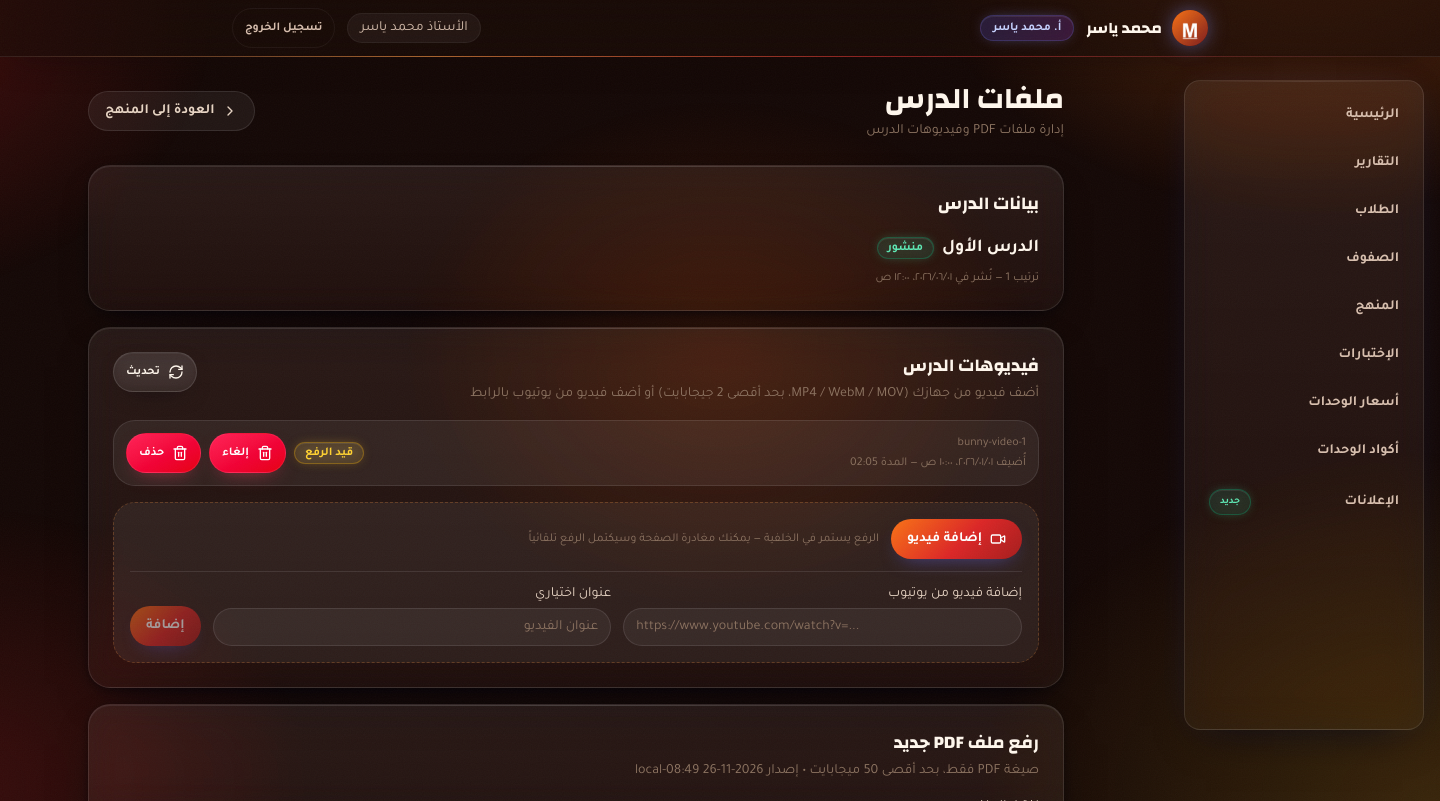
it: LessonAssetsPage — video section › cancels a pending upload from its row through the session Edge Function
This screenshot has width=1440, height=801.
Click the button "إلغاء": (248, 453) [209, 433, 286, 473]
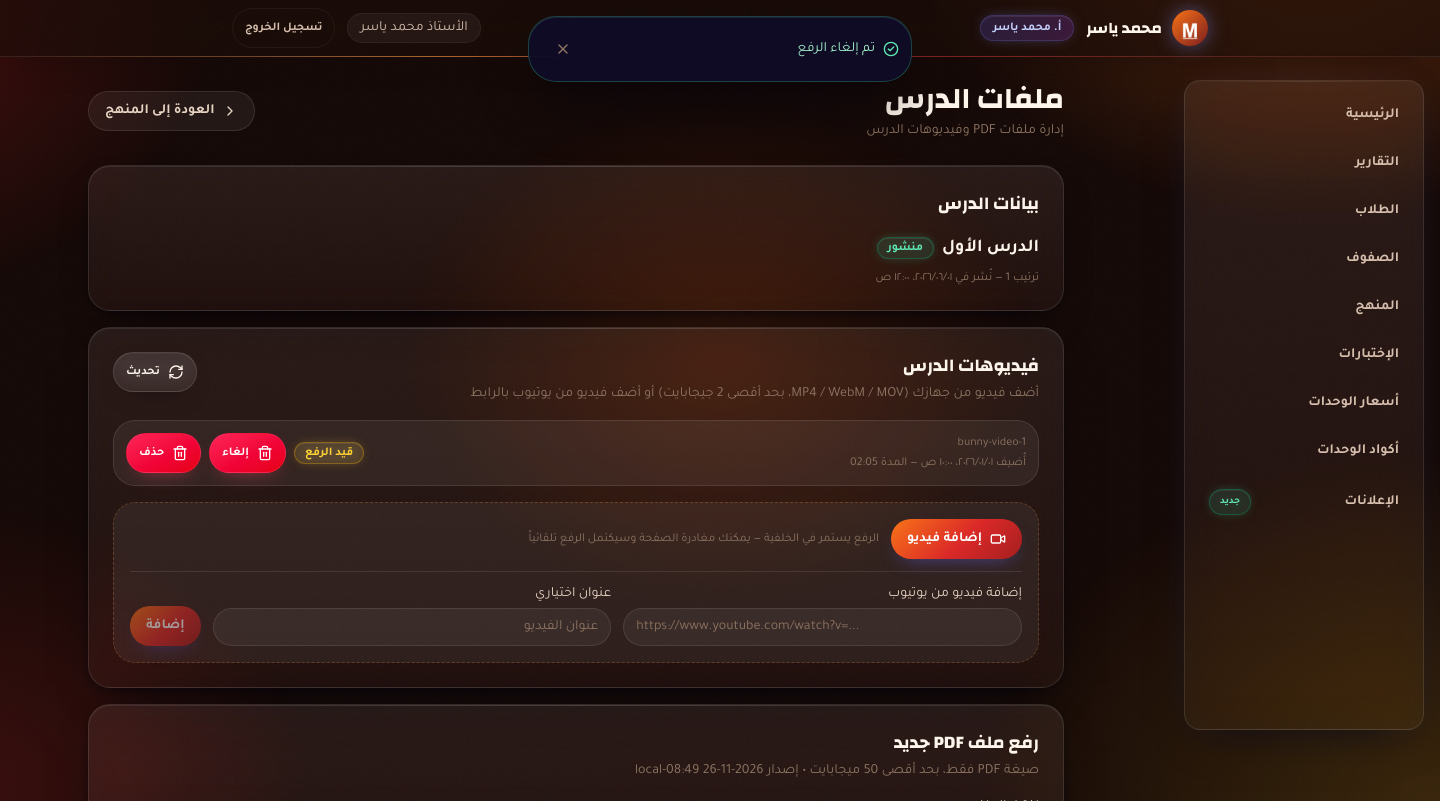
Check: the text "تم إلغاء الرفع" is shown, box [798, 42, 875, 56]
